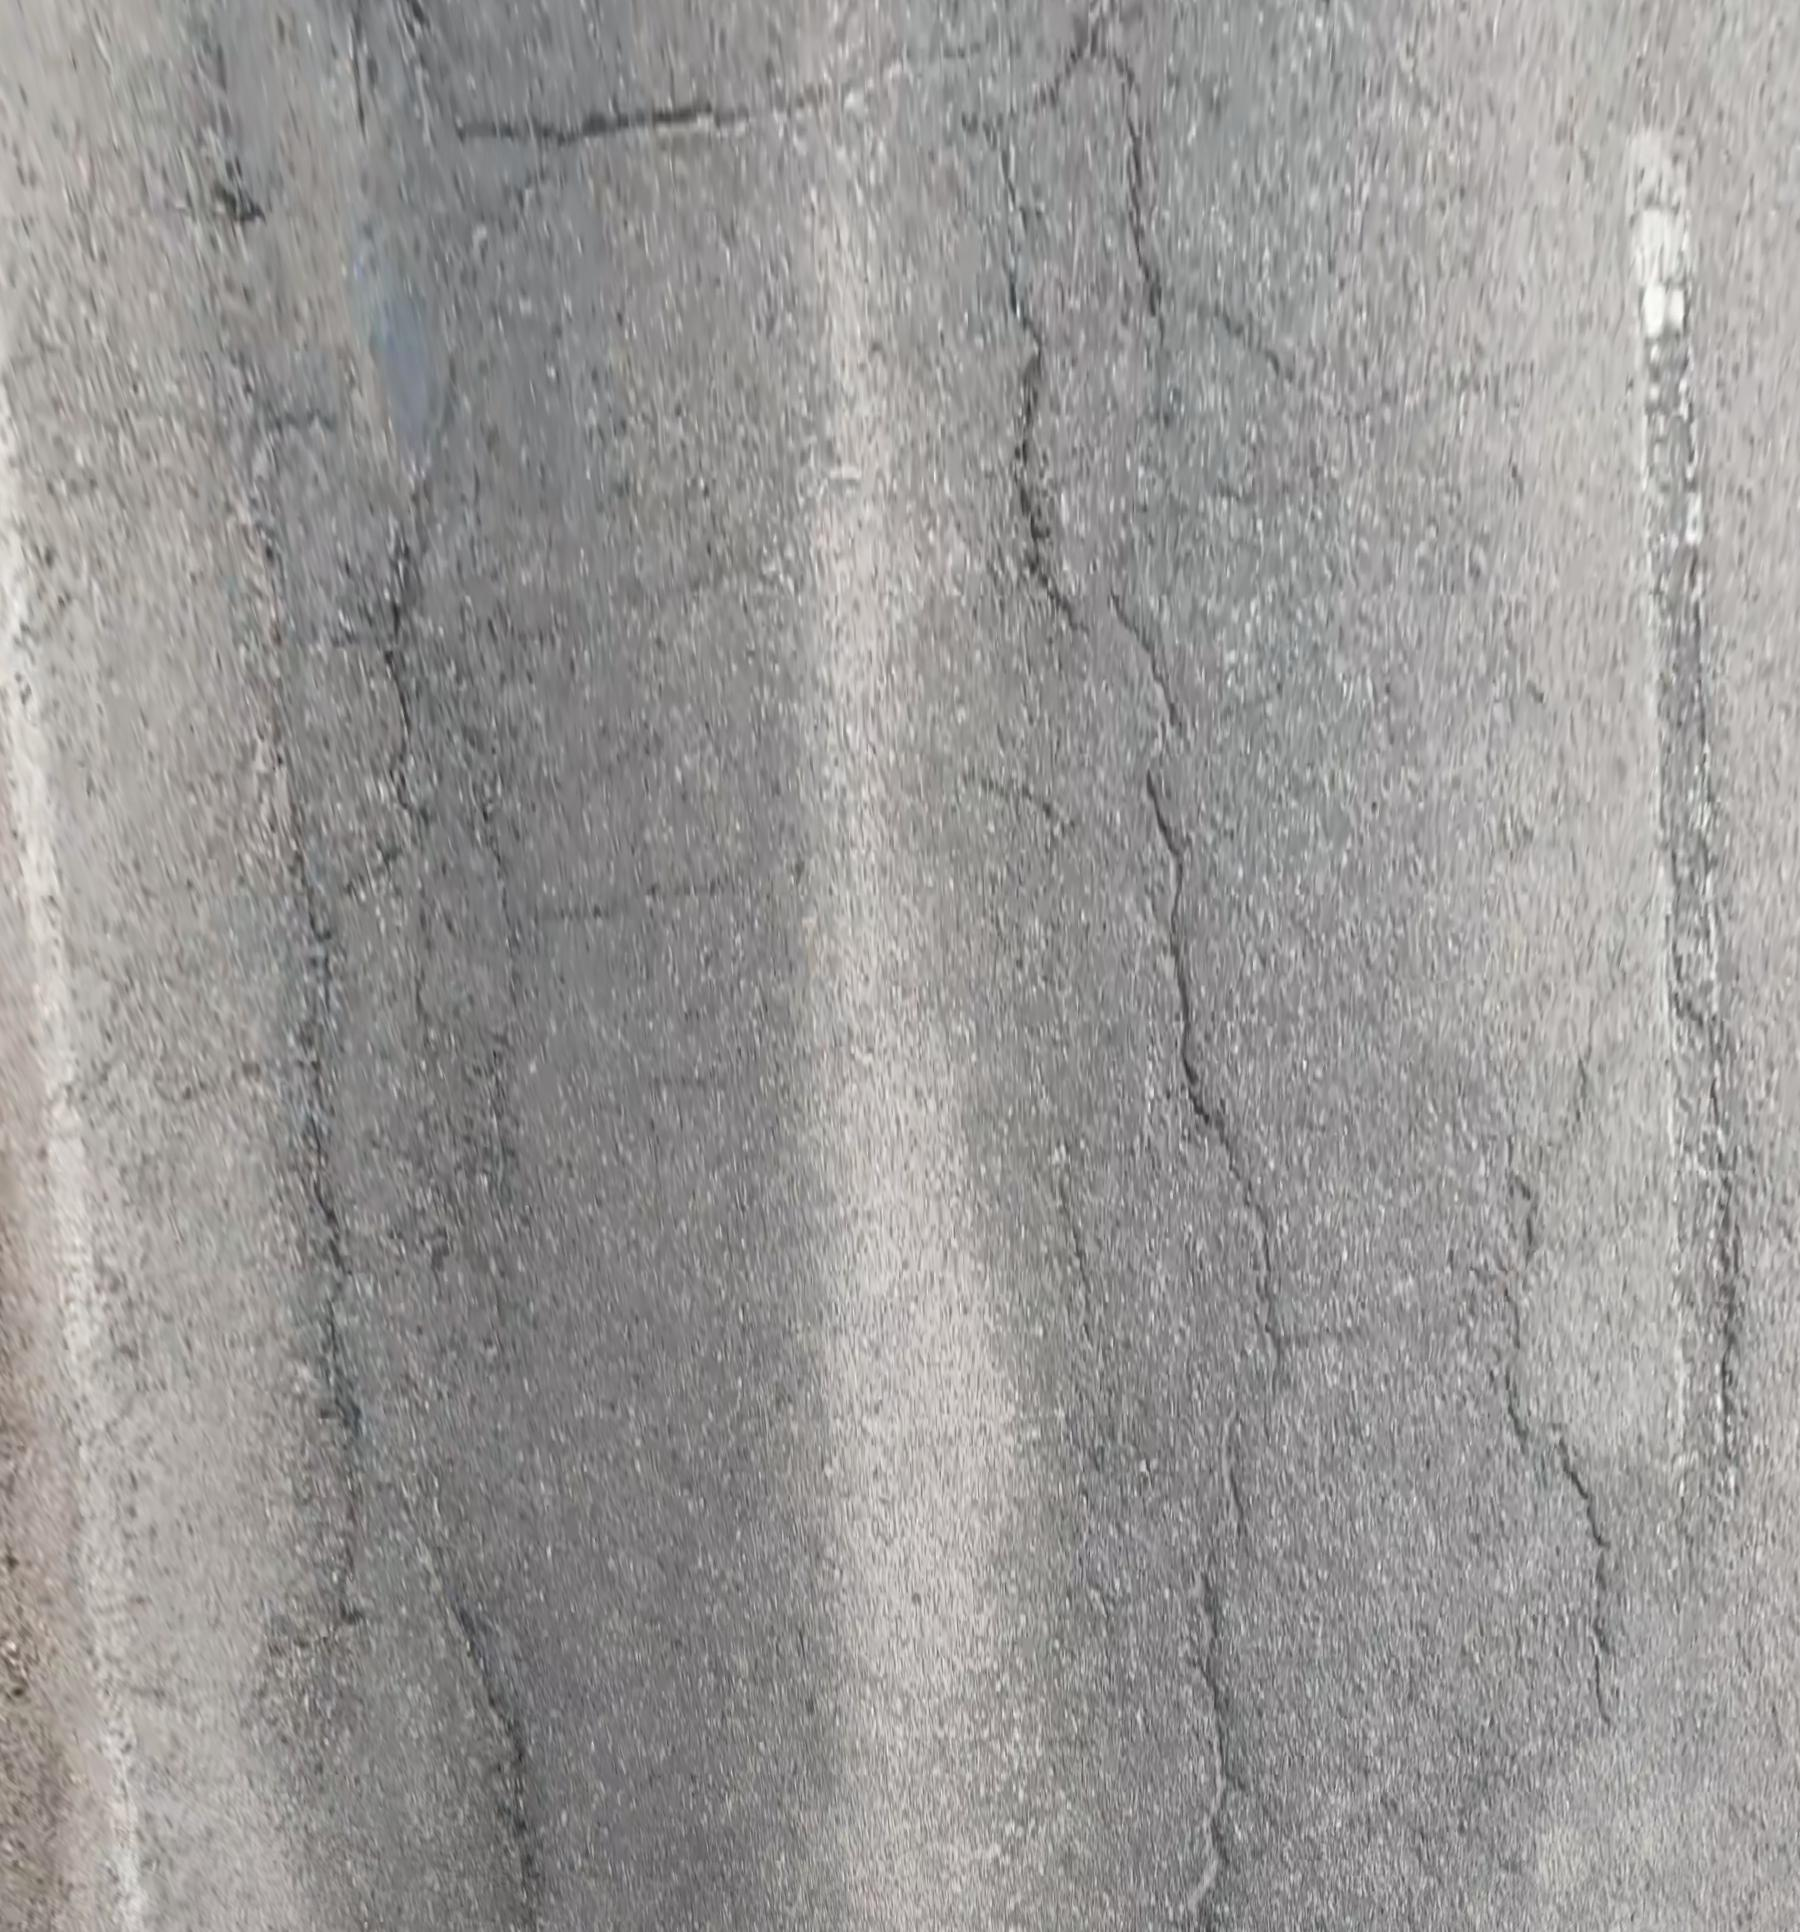pothole_patch_good: (348, 225, 438, 472)
